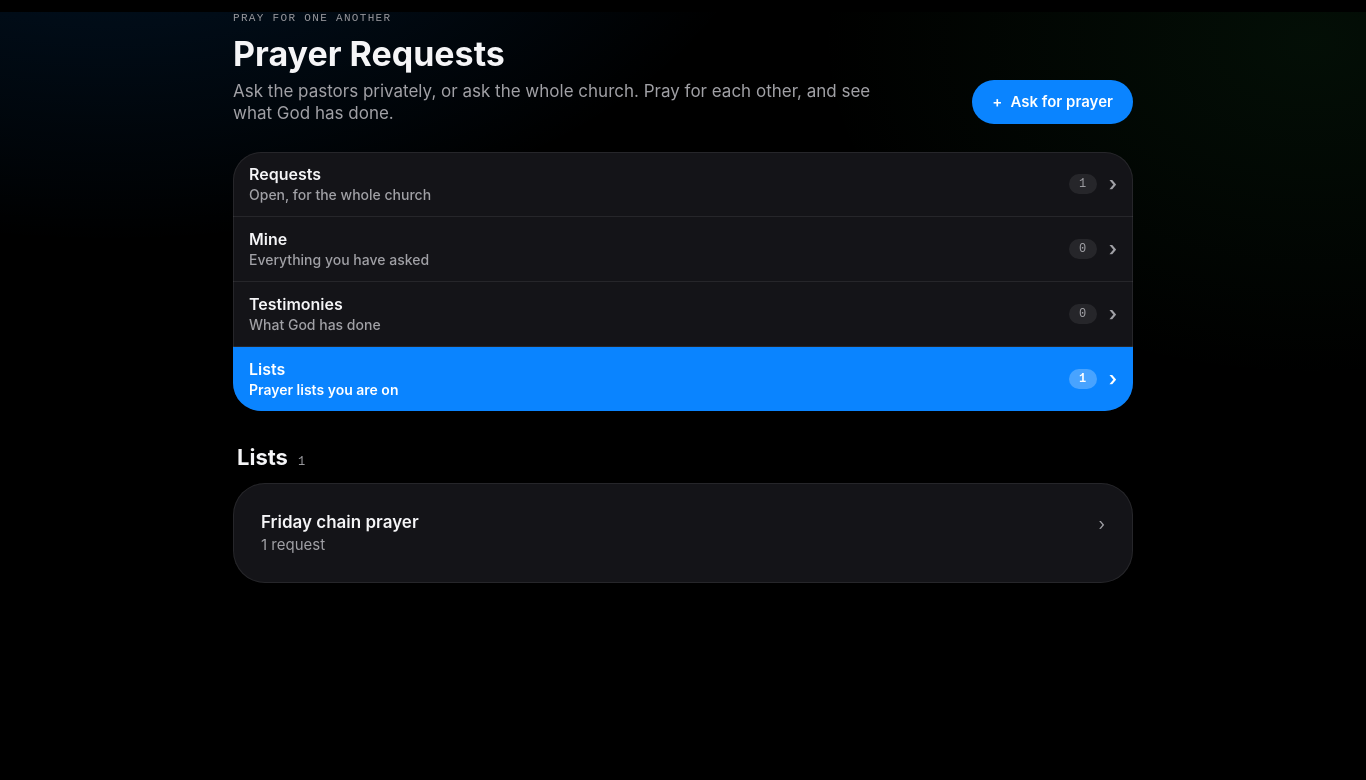
prayer lists › shows the lists somebody is on, with their requests
The width and height of the screenshot is (1366, 780).
Click the button "Friday chain prayer 1 request ›": click(340, 522) top-left (253, 503), bottom-right (1113, 563)
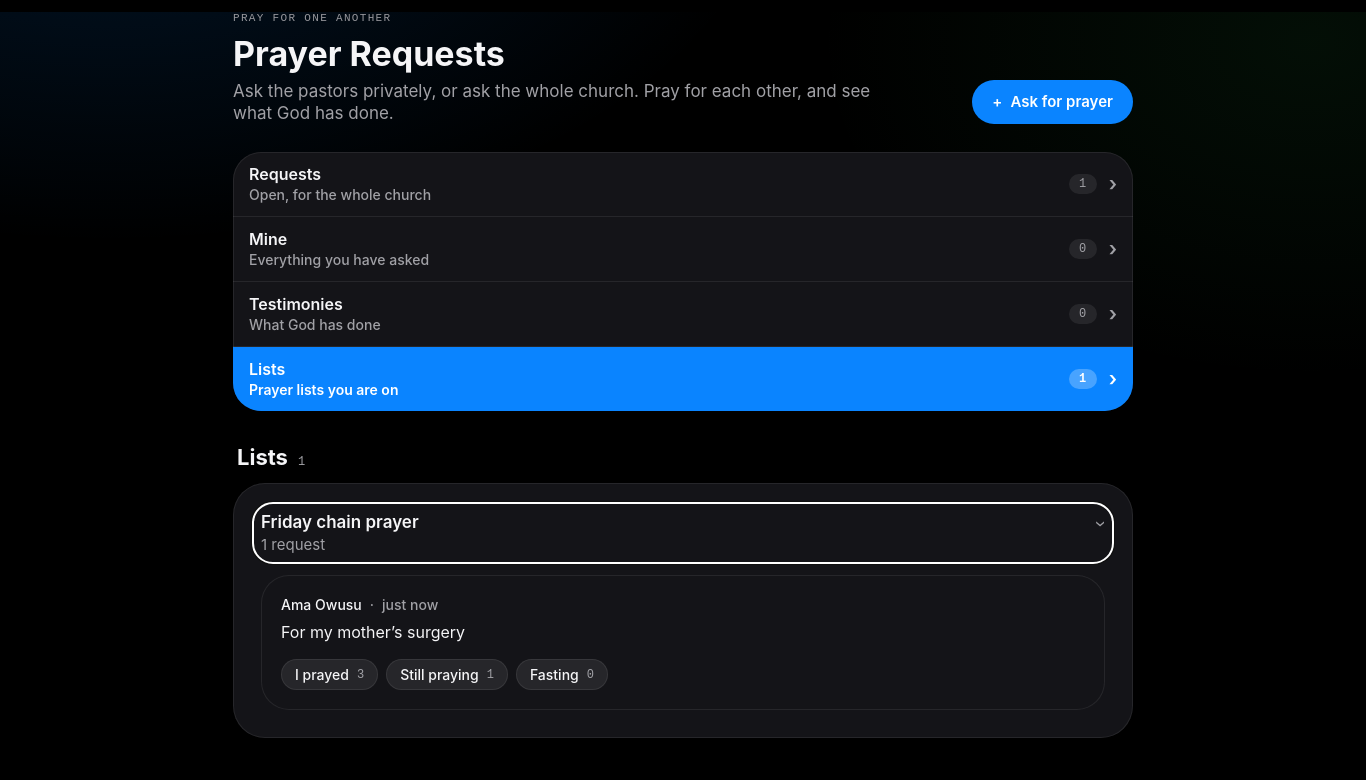
Expected: the text "For my mother’s surgery" is shown, top-left (281, 622), bottom-right (465, 642)
